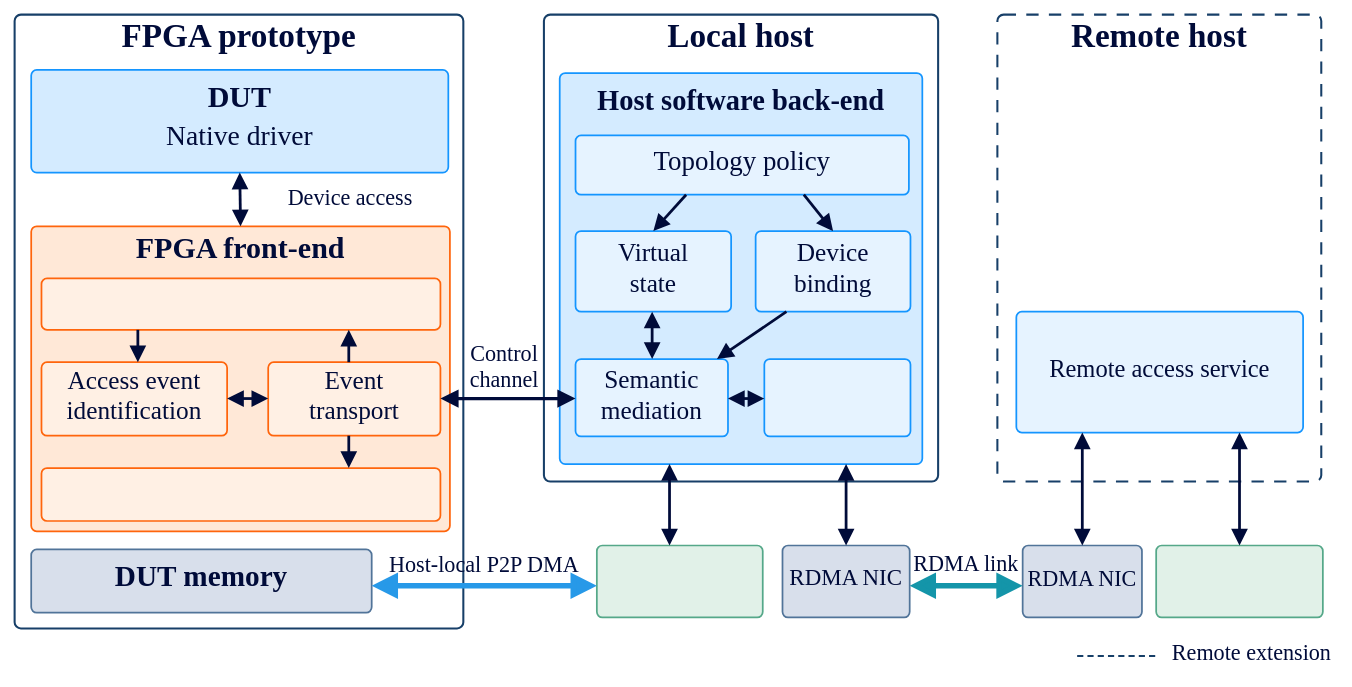
The diagram is 1352 pixels wide and 687 high, and some of its shapes have lost their labels. Each missing label, with the box of its shape:
Address translation: (763, 358, 911, 437)
Device access window: (40, 277, 441, 330)
Interrupt delivery: (40, 467, 441, 521)
Local peripherals: (596, 544, 763, 618)
Remote peripherals: (1155, 544, 1323, 618)
